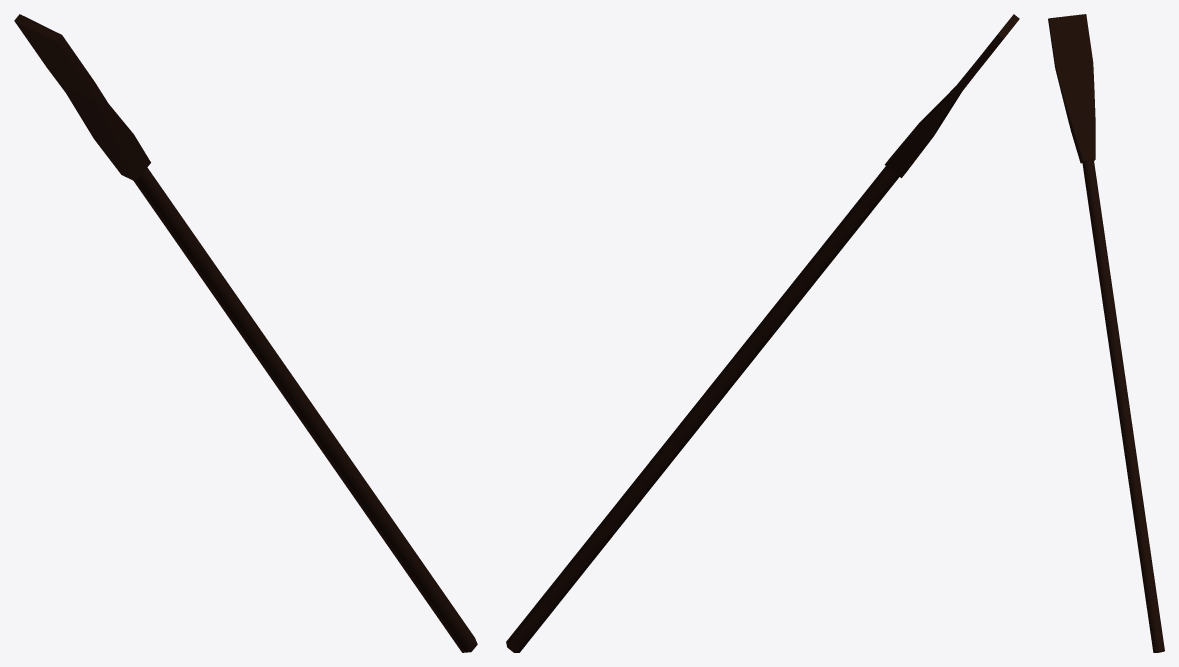
Rendered from Oar_Left_Hand_Mesh.fbx.
The picture shows the model from 3 angles, left to right: view 1: azimuth 30°, elevation 25°; view 2: azimuth 150°, elevation 25°; view 3: azimuth 270°, elevation 25°; orthographic projection. The views are drawn at different scales.
Visible parts, largest first — view 1: Oar_Left_Hand; view 2: Oar_Left_Hand; view 3: Oar_Left_Hand.
Part boxes in pixels (box(x1,y1,x2,y2)): Oar_Left_Hand: box(14, 14, 477, 652); Oar_Left_Hand: box(506, 14, 1019, 652); Oar_Left_Hand: box(1048, 14, 1164, 652).
Size of the model in its own units: 152 by 224 by 48.54.
